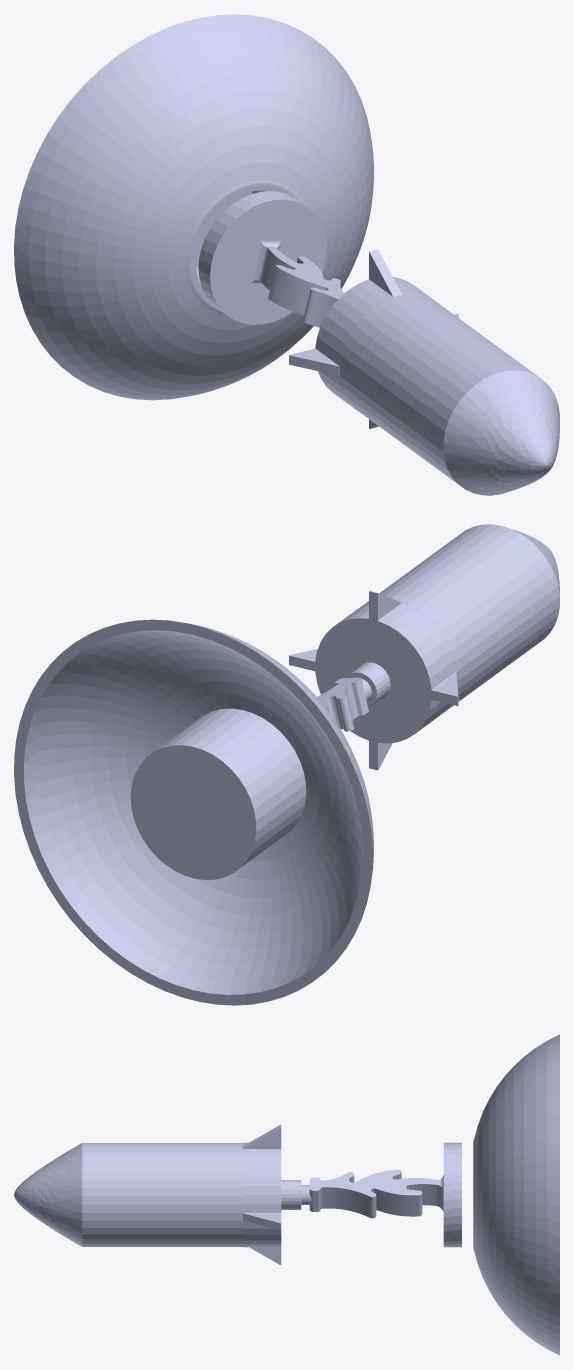
The model's file is mcrocket.glb.
The picture shows the model from 3 angles, top to bottom: view 1: azimuth 30°, elevation 25°; view 2: azimuth 150°, elevation 25°; view 3: azimuth 270°, elevation 25°; orthographic projection. The views are drawn at different scales.
Size of the model in its own units: 102 by 102 by 173.
